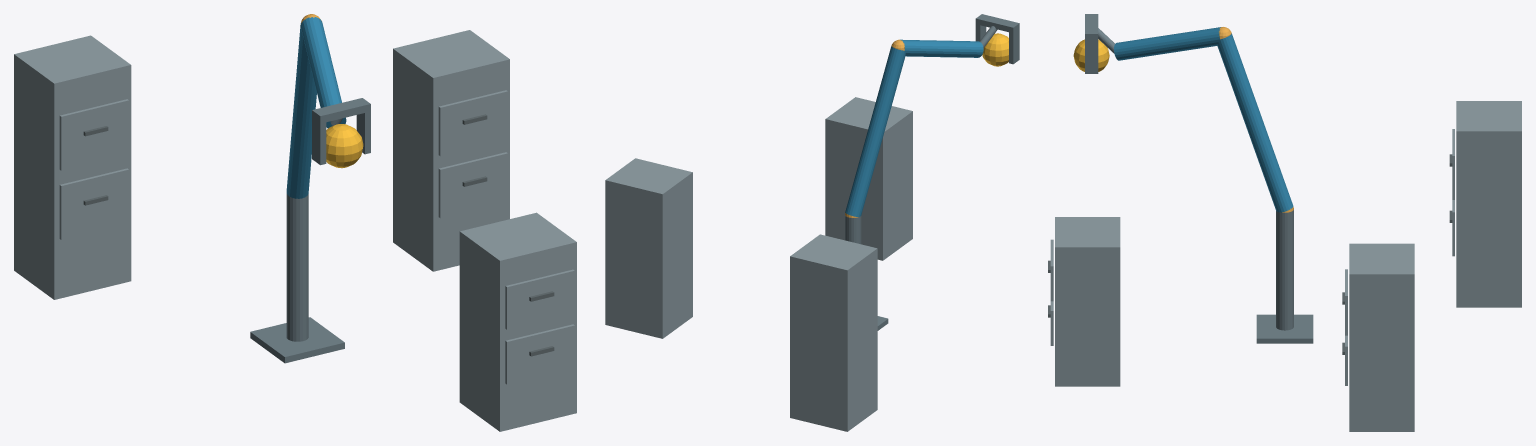
The picture shows the model from 3 angles, left to right: view 1: azimuth 30°, elevation 25°; view 2: azimuth 150°, elevation 25°; view 3: azimuth 270°, elevation 25°; orthographic projection. The views are drawn at different scales.
Parts seen in each view (by area): view 1: cabinet_3 body, cabinet_1 body, cabinet_2 body, cabinet_3 drawer front, cabinet_3 drawer front.001, cabinet_2 drawer front, cabinet_2 drawer front.001, fixed post, moving link 1, cabinet_1 drawer front, cabinet_1 drawer front.001, pedestal (+4 smaller); view 2: cabinet_3 body, cabinet_2 body, cabinet_1 body, moving link 1, moving link 2, ball ball_1, gripper bridge, fixed post; view 3: cabinet_3 body, cabinet_2 body, cabinet_1 body, moving link 1, fixed post, moving link 2, pedestal, ball ball_1, gripper finger 1.
Boxes of the visible parts, x1,y1,x2,y2 form: cabinet_3 body: (14, 35, 131, 299); cabinet_1 body: (459, 212, 576, 431); cabinet_2 body: (393, 30, 509, 271); cabinet_3 drawer front: (59, 168, 128, 239); cabinet_3 drawer front.001: (59, 99, 128, 170); cabinet_2 drawer front: (438, 152, 507, 218); cabinet_2 drawer front.001: (438, 90, 507, 156); fixed post: (286, 194, 308, 341); moving link 1: (286, 23, 316, 198); cabinet_1 drawer front: (505, 324, 574, 384); cabinet_1 drawer front.001: (505, 269, 574, 329); pedestal: (250, 317, 344, 363); cabinet_3 body: (790, 234, 877, 431); cabinet_2 body: (605, 158, 692, 338); cabinet_1 body: (825, 97, 912, 260); moving link 1: (845, 46, 905, 216); moving link 2: (900, 39, 983, 57); ball ball_1: (982, 33, 1008, 66); gripper bridge: (975, 14, 1019, 33); fixed post: (845, 216, 861, 244); cabinet_3 body: (1456, 101, 1521, 307); cabinet_2 body: (1349, 243, 1414, 431); cabinet_1 body: (1055, 217, 1120, 386); moving link 1: (1217, 33, 1293, 212); fixed post: (1276, 209, 1293, 330); moving link 2: (1114, 27, 1220, 60); pedestal: (1256, 314, 1313, 343); ball ball_1: (1073, 39, 1109, 71); gripper finger 1: (1085, 40, 1098, 73).
Size of the model in its own units: 1.62 by 1.44 by 2.1.
